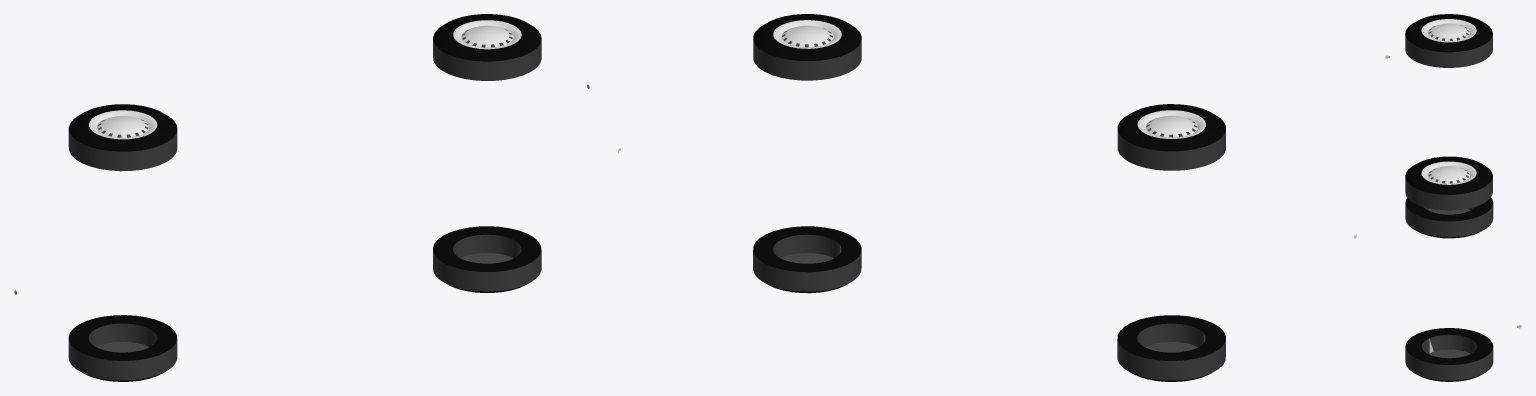
The model's file is wheels.glb.
3 views of the same model, side by side, from view 1: azimuth 30°, elevation 25°; view 2: azimuth 150°, elevation 25°; view 3: azimuth 270°, elevation 25° (orthographic). The views are drawn at different scales.
Parts seen in each view (by area): view 1: 3DGeom-50, 3DGeom-46, 3DGeom-49, 3DGeom-45, 3DGeom-45.001, 3DGeom-49.001, 3DGeom-50.001, 3DGeom-46.001, 3DGeom-51.001, 3DGeom-47.001; view 2: 3DGeom-46, 3DGeom-50, 3DGeom-45, 3DGeom-49, 3DGeom-49.001, 3DGeom-45.001, 3DGeom-50.001, 3DGeom-46.001, 3DGeom-47.001, 3DGeom-51.001; view 3: 3DGeom-46, 3DGeom-45, 3DGeom-45.001, 3DGeom-49.001, 3DGeom-50, 3DGeom-46.001, 3DGeom-50.001, 3DGeom-47.001, 3DGeom-51.001, 3DGeom-49.
Boxes of the visible parts, x1=… form: 3DGeom-50: x1=68, y1=323, x2=177, y2=380; 3DGeom-46: x1=433, y1=234, x2=541, y2=291; 3DGeom-49: x1=68, y1=315, x2=176, y2=381; 3DGeom-45: x1=433, y1=226, x2=541, y2=292; 3DGeom-45.001: x1=433, y1=14, x2=541, y2=61; 3DGeom-49.001: x1=69, y1=104, x2=177, y2=151; 3DGeom-50.001: x1=68, y1=119, x2=177, y2=171; 3DGeom-46.001: x1=433, y1=29, x2=541, y2=80; 3DGeom-51.001: x1=89, y1=110, x2=157, y2=139; 3DGeom-47.001: x1=453, y1=20, x2=521, y2=49; 3DGeom-46: x1=753, y1=234, x2=861, y2=291; 3DGeom-50: x1=1117, y1=323, x2=1225, y2=380; 3DGeom-45: x1=753, y1=226, x2=861, y2=293; 3DGeom-49: x1=1117, y1=315, x2=1225, y2=381; 3DGeom-49.001: x1=1117, y1=104, x2=1225, y2=151; 3DGeom-45.001: x1=753, y1=14, x2=861, y2=60; 3DGeom-50.001: x1=1117, y1=118, x2=1225, y2=170; 3DGeom-46.001: x1=753, y1=28, x2=861, y2=80; 3DGeom-47.001: x1=773, y1=20, x2=841, y2=48; 3DGeom-51.001: x1=1137, y1=110, x2=1205, y2=138; 3DGeom-46: x1=1405, y1=334, x2=1493, y2=380; 3DGeom-45: x1=1405, y1=328, x2=1493, y2=381; 3DGeom-45.001: x1=1405, y1=156, x2=1492, y2=194; 3DGeom-49.001: x1=1405, y1=14, x2=1492, y2=52; 3DGeom-50: x1=1405, y1=203, x2=1493, y2=237; 3DGeom-46.001: x1=1405, y1=169, x2=1492, y2=210; 3DGeom-50.001: x1=1405, y1=25, x2=1492, y2=67; 3DGeom-47.001: x1=1421, y1=161, x2=1476, y2=184; 3DGeom-51.001: x1=1421, y1=19, x2=1476, y2=42; 3DGeom-49: x1=1405, y1=197, x2=1493, y2=238.
Bounding box in the file's own units: 2.6 × 0.9252 × 0.58.
Materials: 4 (2 with a texture image).
